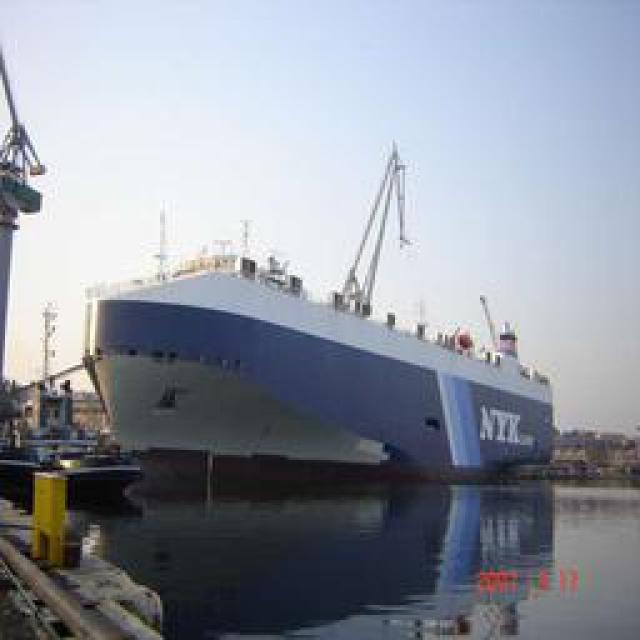Ship: (77, 191, 560, 524)
